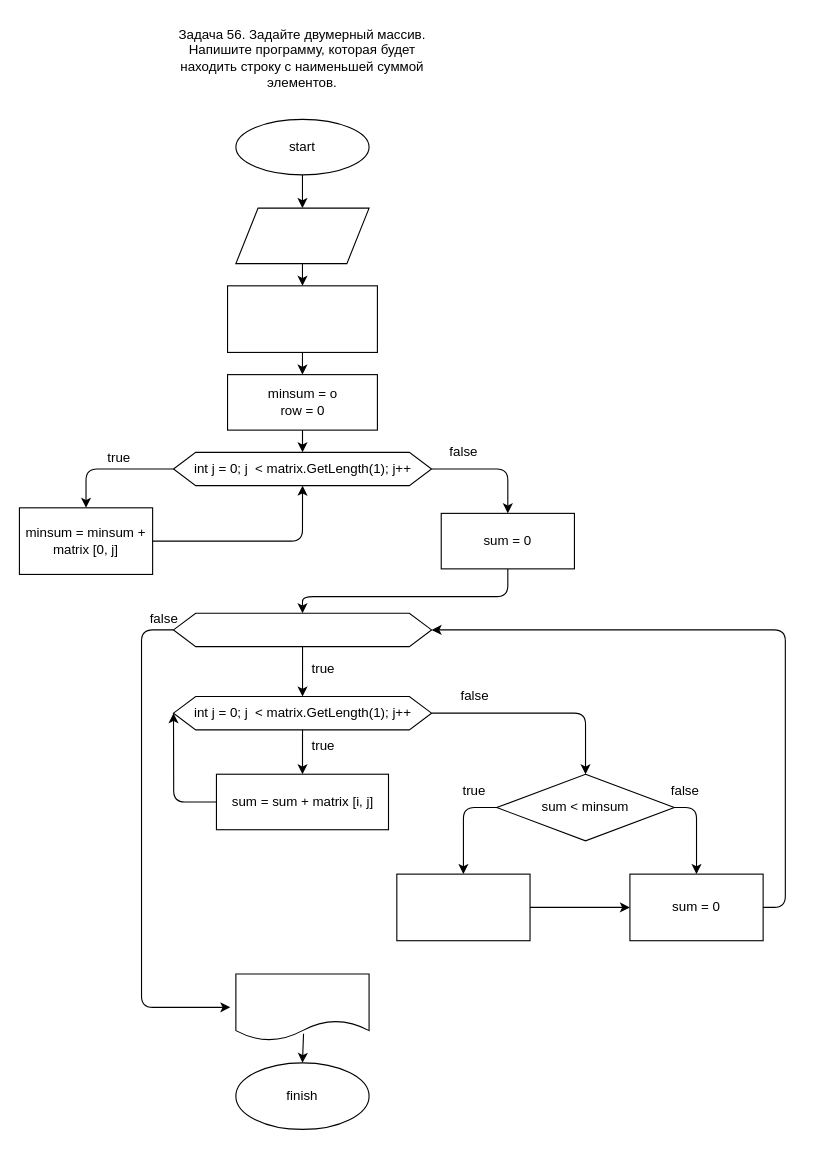
This 814x1149 diagram has some shape labels left out. The shapes that lost their labels are listed below. From the top down, each one's centre as x and y in pixels, then its label:
At point (302, 235): "matrix [,]".
At point (301, 318): "Иниц-ция массива Заполнение массива Печать исходного массива".
At point (302, 629): "int i = 0; i < matrix.GetLength(0); i++".
At point (463, 907): "minsum = sum row = i".
At point (302, 1007): "row".
